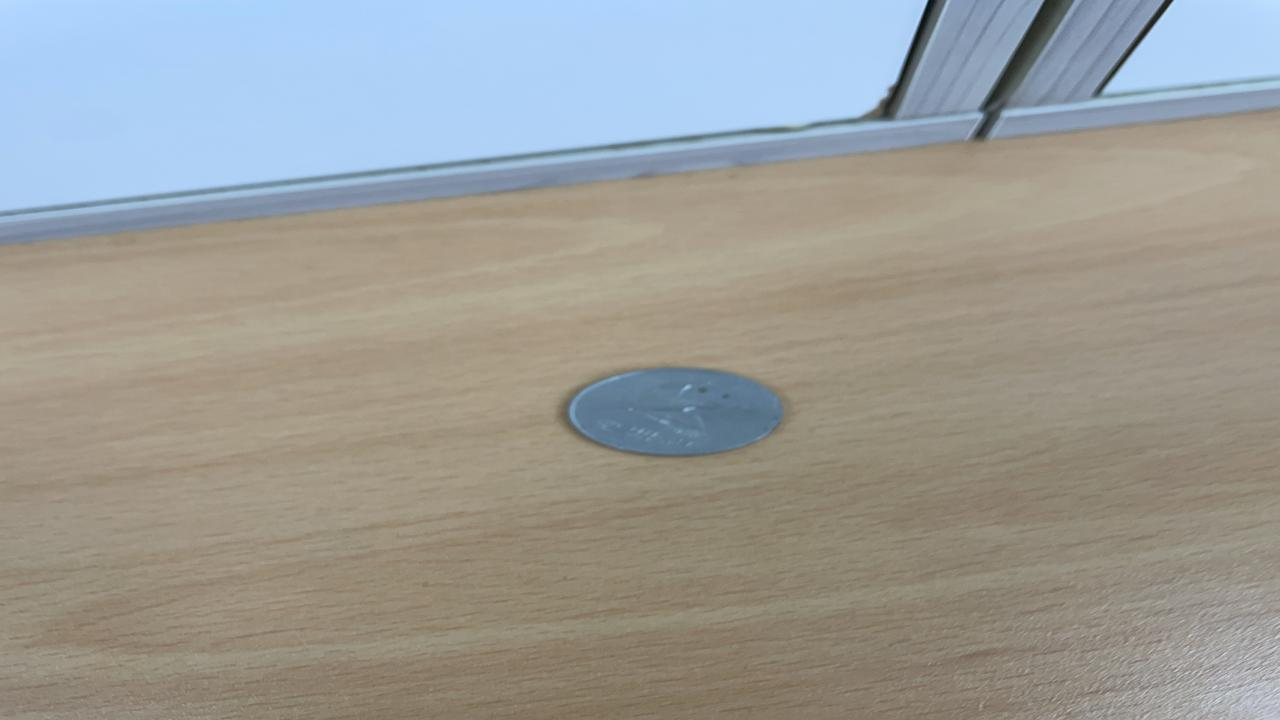coin: (554, 365, 790, 458)
